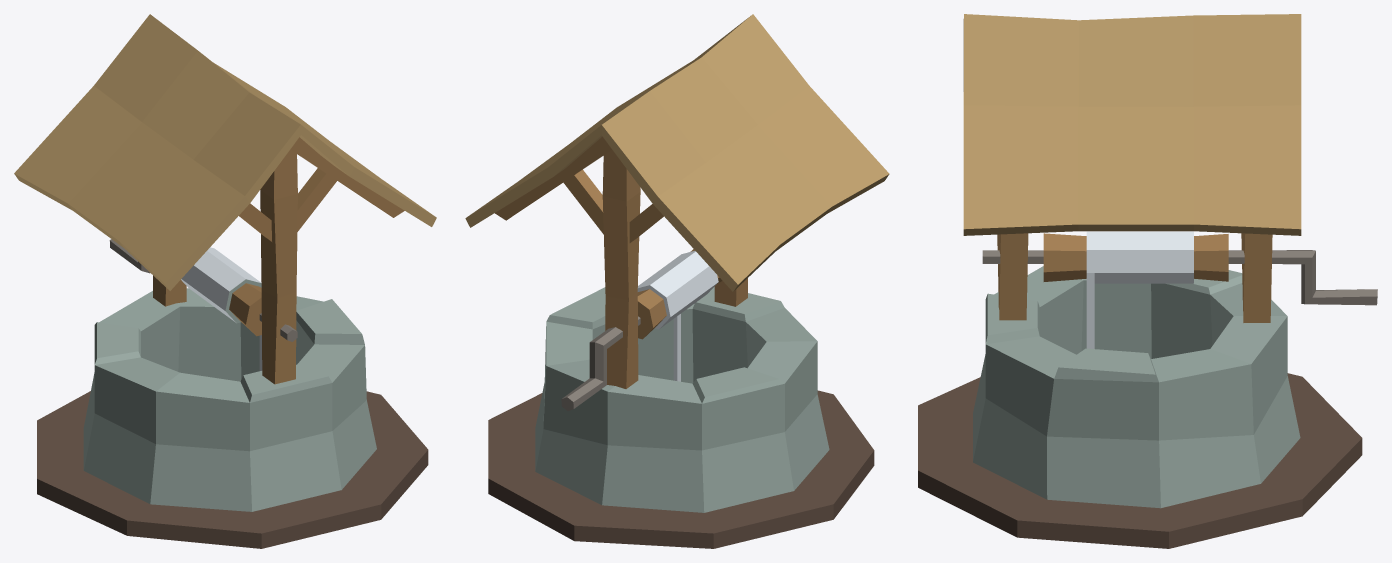
File: castle_well01.fbx
3 renders of one model, left to right at view 1: azimuth 30°, elevation 25°; view 2: azimuth 150°, elevation 25°; view 3: azimuth 270°, elevation 25°, orthographic. The views are drawn at different scales.
Visible parts, largest first — view 1: castle_well_01; view 2: castle_well_01; view 3: castle_well_01.
Boxes of the visible parts, x1,y1,x2,y2 form: castle_well_01: [14, 14, 436, 548]; castle_well_01: [465, 14, 889, 548]; castle_well_01: [918, 14, 1377, 548].
Bounding box in the file's own units: 1.97 × 2.04 × 2.16.
